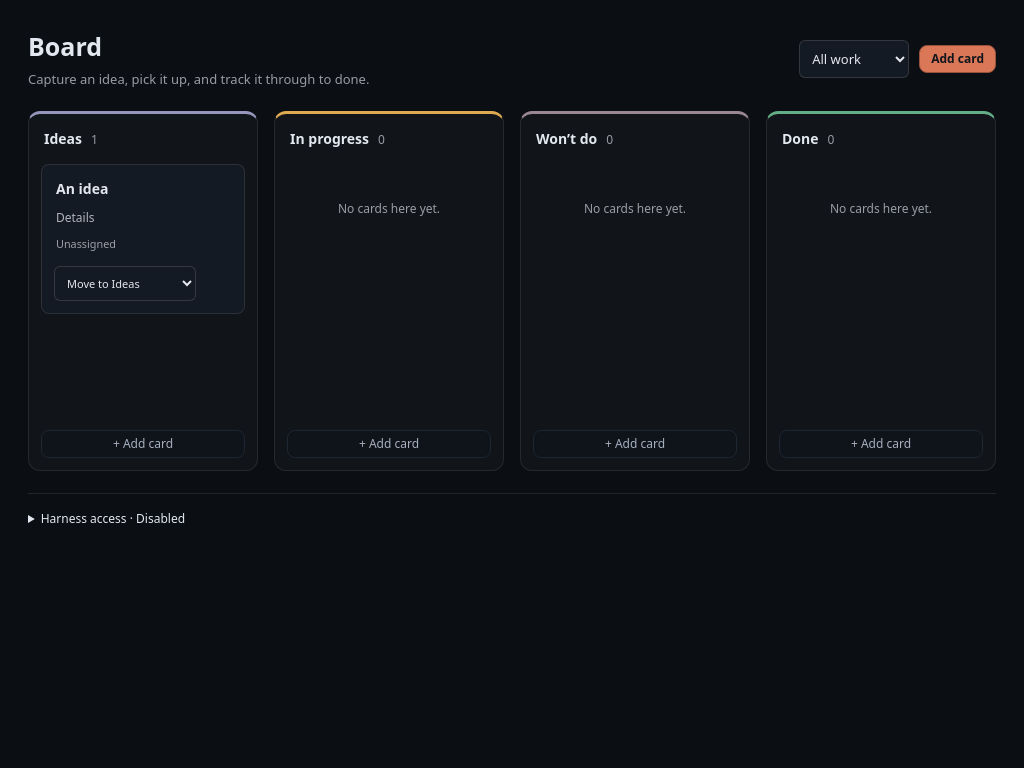
Test: preserves a draft during an external edit and requires reloading before saving
This screenshot has width=1024, height=768.
Click the button "An idea Details Unassigned" at [143, 216], box 42,165 -> 244,266
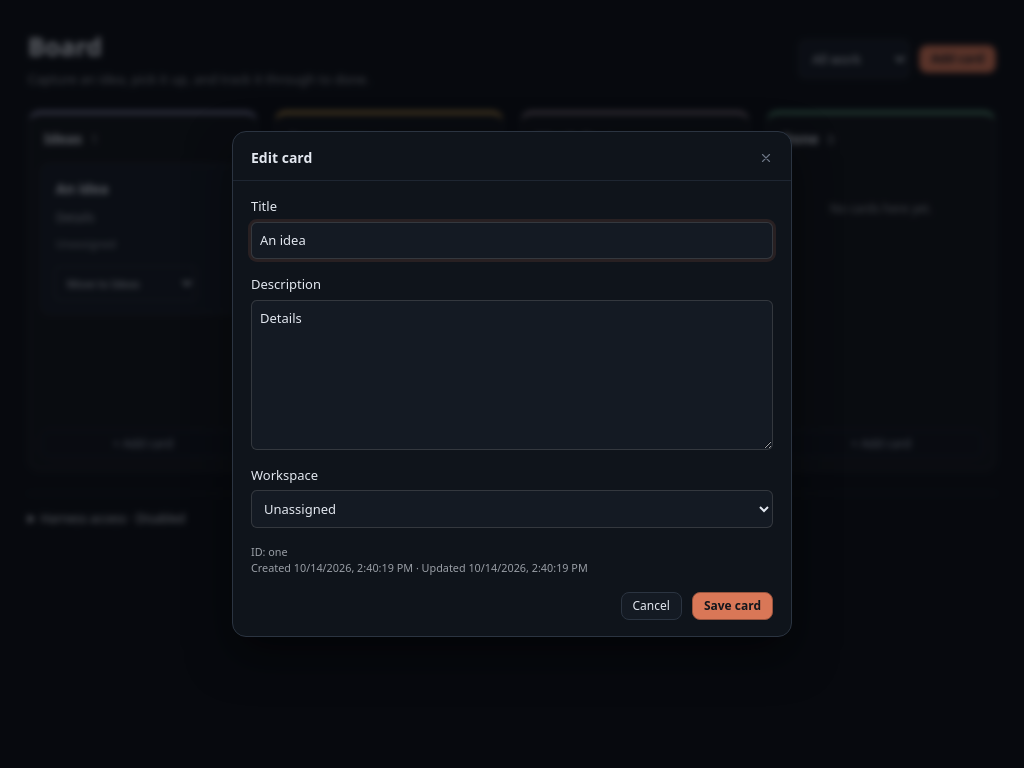
Replace the text in the field labelled "Title" with "My unsaved draft" at [512, 240], box 251,222 -> 773,259
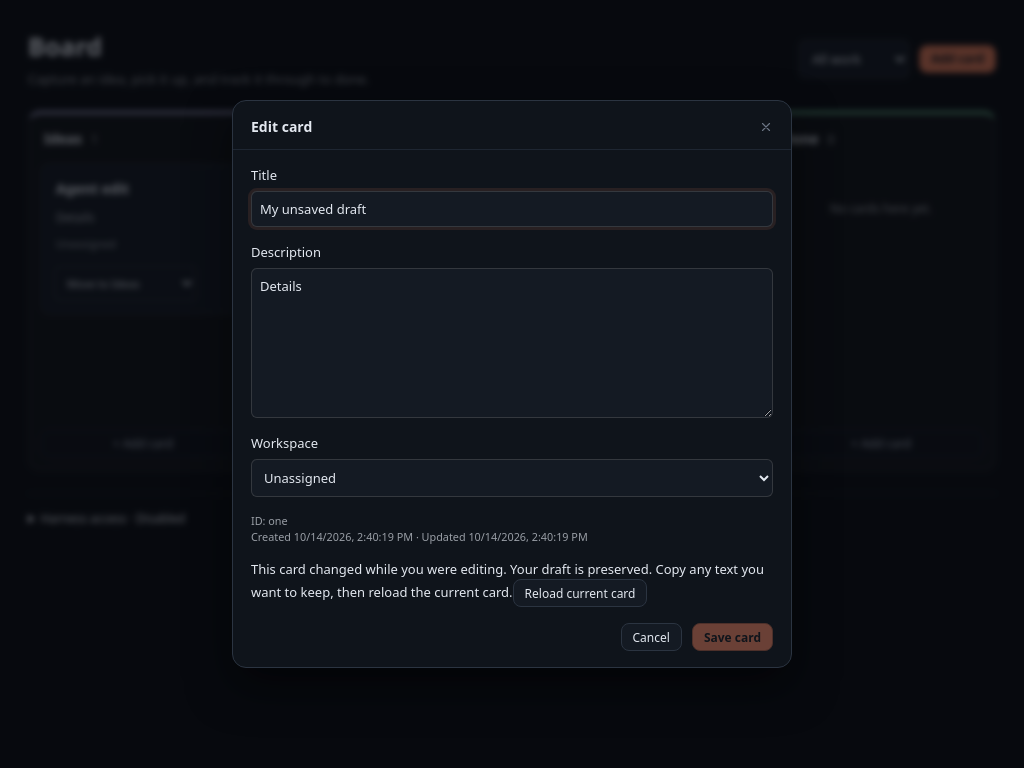
Result: the button "Save card" is disabled at 692,623 -> 773,651
Click the button "Reload current card" at [580, 593], box 513,579 -> 648,607
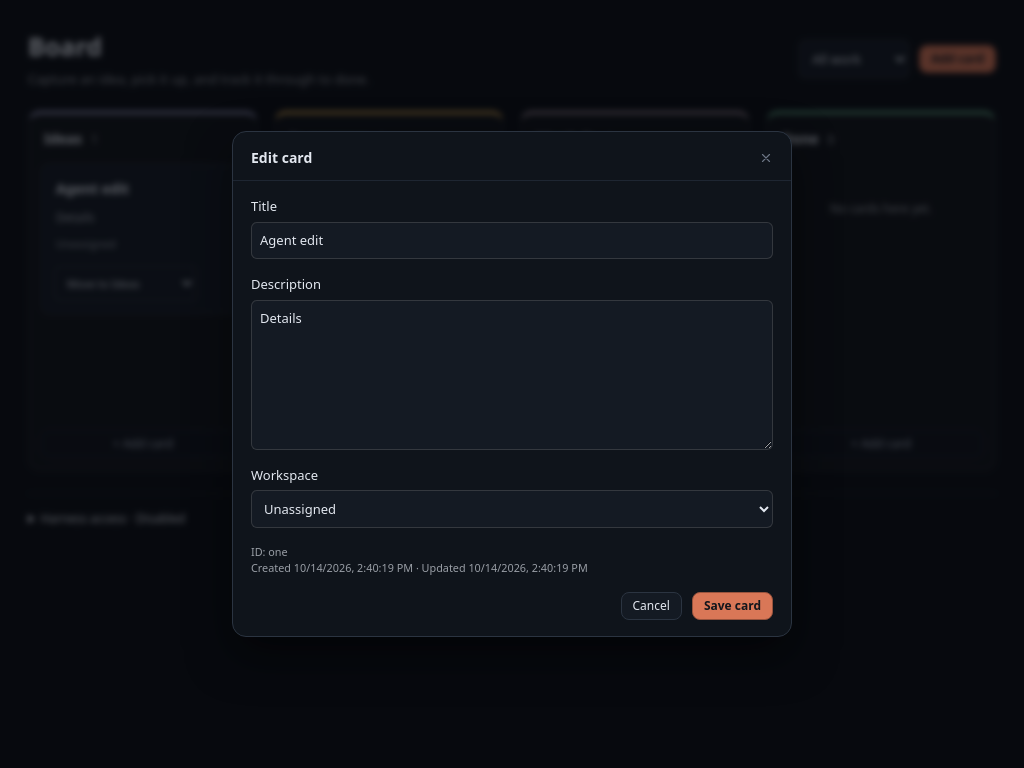
Result: the field labelled "Title" holds "Agent edit" at 251,222 -> 773,259
